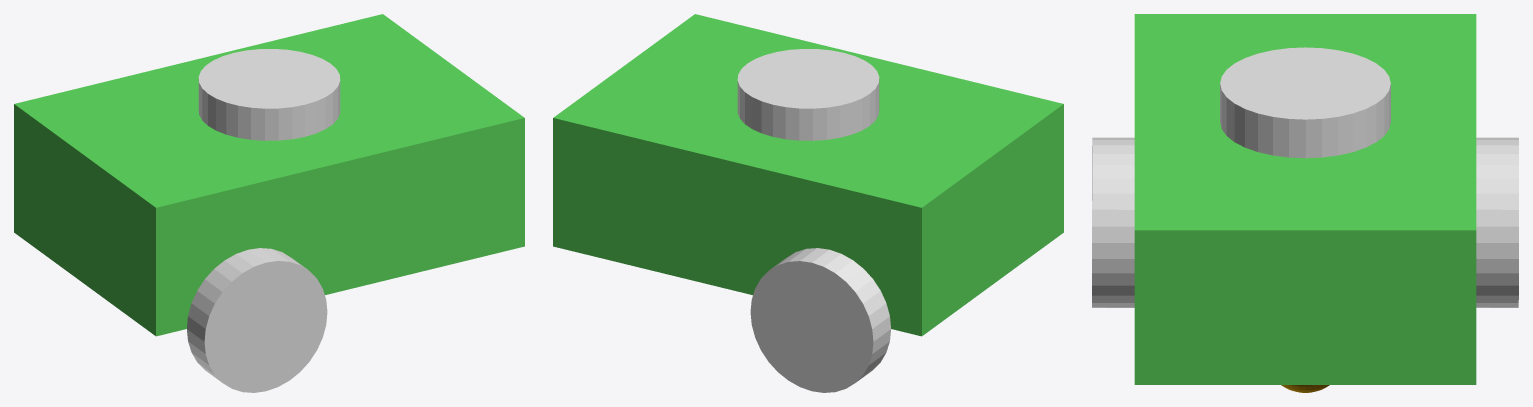
Rendered from turtle_bot_dummy.dae.
The picture shows the model from 3 angles, left to right: view 1: azimuth 30°, elevation 25°; view 2: azimuth 150°, elevation 25°; view 3: azimuth 270°, elevation 25°; orthographic projection. The views are drawn at different scales.
Parts seen in each view (by area): view 1: base_link_visual, right_wheel_link_visual, lidar_visual; view 2: base_link_visual, left_wheel_link_visual, lidar_visual; view 3: base_link_visual, lidar_visual, right_wheel_link_visual, left_wheel_link_visual.
Part boxes in pixels (x1,y1,x2,y2): base_link_visual: (14,14,524,336); right_wheel_link_visual: (187,248,327,392); lidar_visual: (198,49,340,140); base_link_visual: (553,14,1063,336); left_wheel_link_visual: (750,248,890,392); lidar_visual: (737,49,879,140); base_link_visual: (1134,14,1476,384); lidar_visual: (1220,47,1390,158); right_wheel_link_visual: (1092,137,1134,307); left_wheel_link_visual: (1476,137,1518,307).
Size of what is drawn, in the model's own units: 0.6 by 0.5002 by 0.35.
